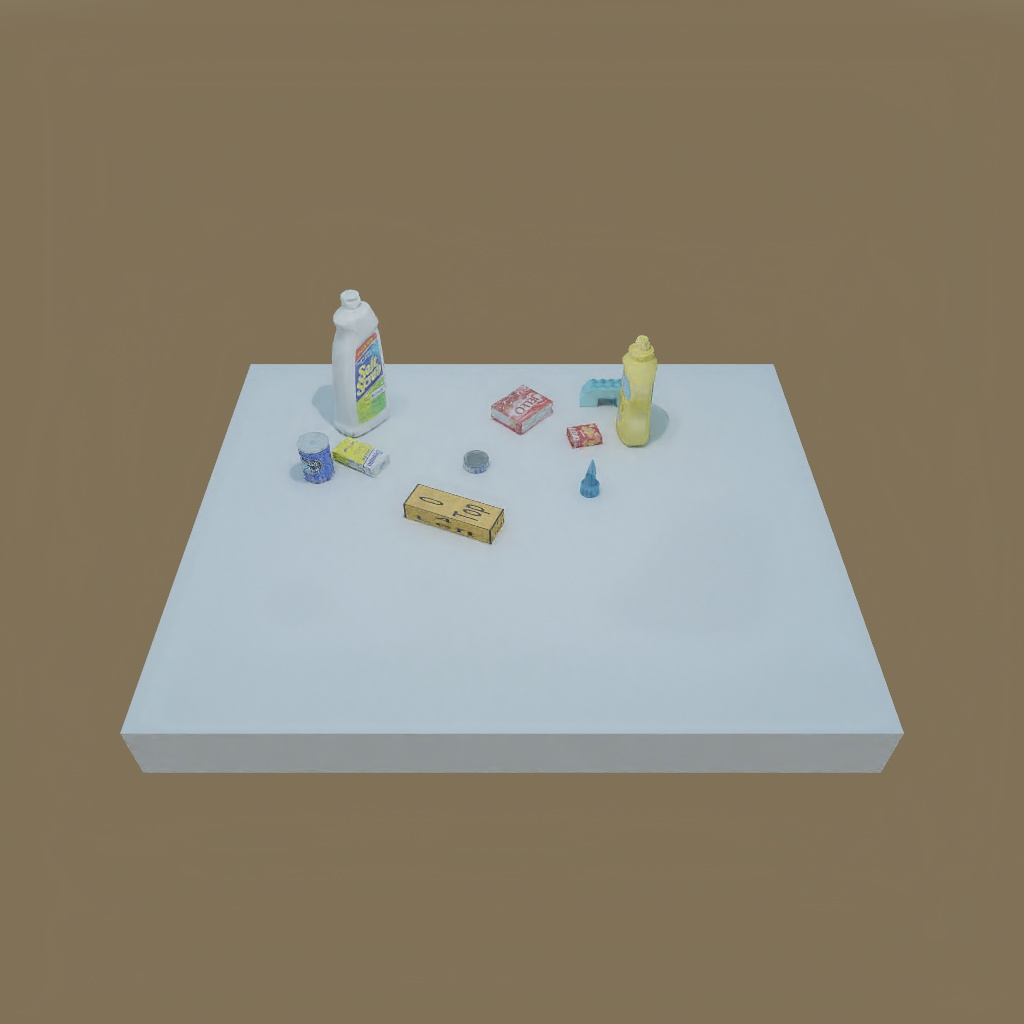gelatin_box: (493, 384, 557, 436)
jenga: (404, 481, 507, 547)
master_chef_can: (293, 433, 337, 489)
mustard_bottle: (615, 330, 664, 447)
